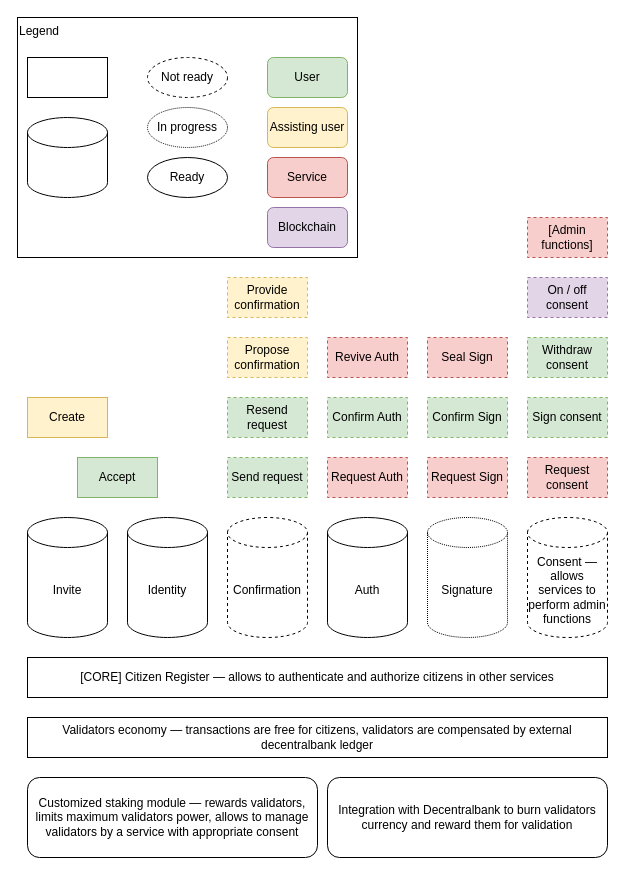
The diagram is 625 pixels wide and 875 high, and some of its shapes have lost their labels. The shapes that lost their labels are listed below. From the top down, each one's centre as x and y in pixels, then its label:
the point at 67,77: Transaction
the point at 67,157: Entity & store
